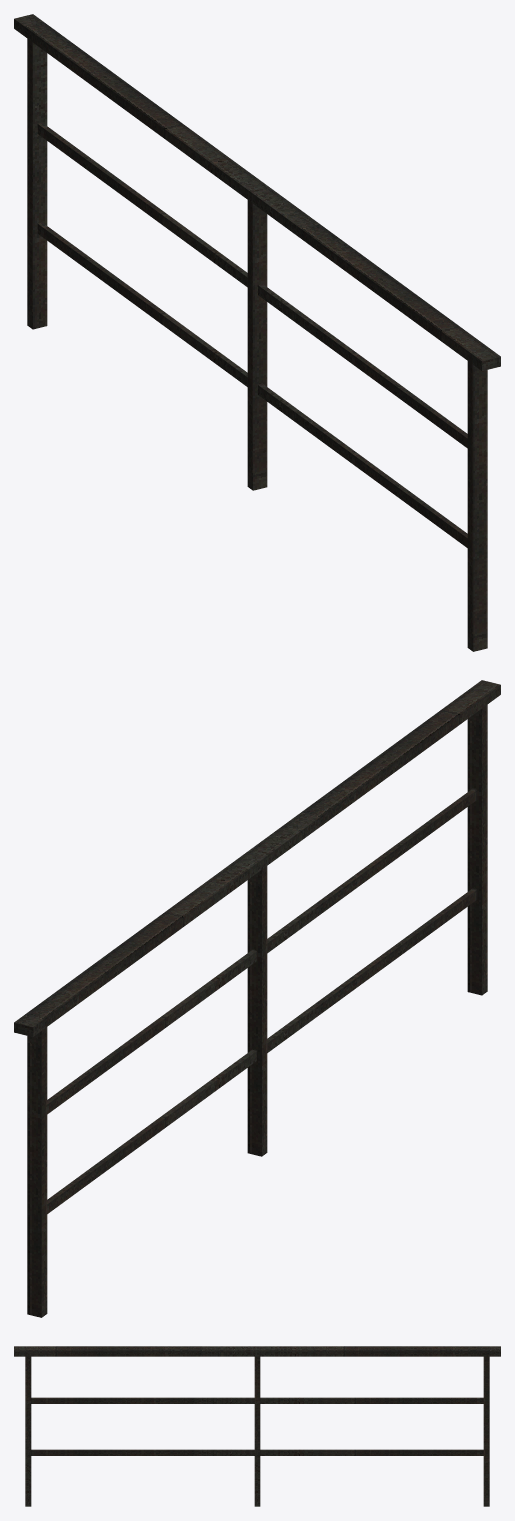
The model's file is platform_b_handrail_1.glb.
3 views of the same model, one above another, from view 1: azimuth 30°, elevation 25°; view 2: azimuth 150°, elevation 25°; view 3: azimuth 270°, elevation 25° (orthographic). The views are drawn at different scales.
Parts seen in each view (by area): view 1: platform_b_handrail_1; view 2: platform_b_handrail_1; view 3: platform_b_handrail_1.
Part boxes in pixels (x1,y1,x2,y2): platform_b_handrail_1: (14,14,500,651); platform_b_handrail_1: (14,680,500,1317); platform_b_handrail_1: (14,1346,500,1506).
Size of the model in its own units: 0.08 by 1.2 by 3.4.
1 material, 1 textured.
